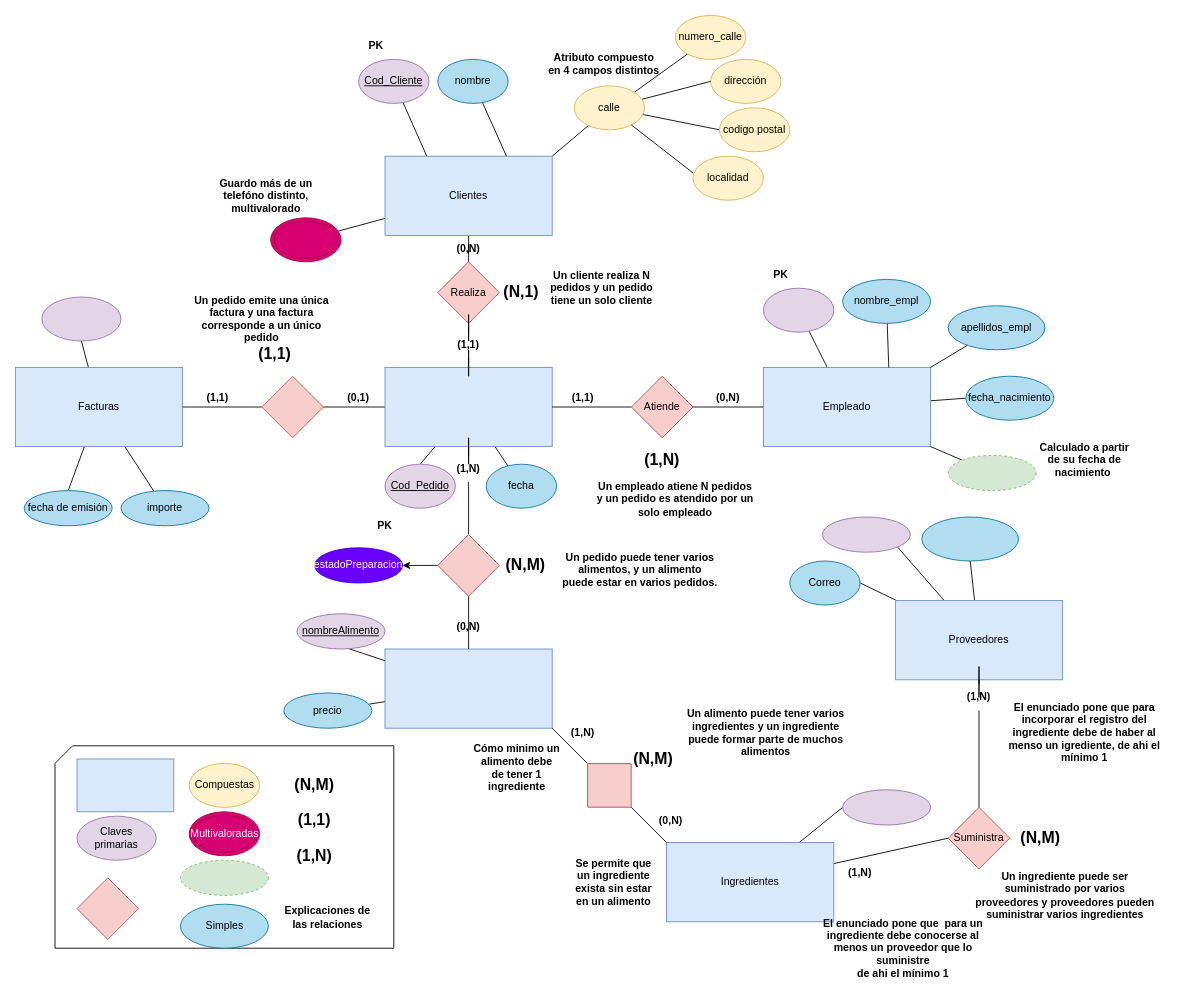
Some shapes in this 1191 by 995 pixel diagram are drawn without their labels. The centre of each missing label's shape, as x and y in pixels:
Alimento: pixel 468 688
Derivadas: pixel 224 877
DNI: pixel 798 309
edad: pixel 991 473
Emite: pixel 292 406
Entidades: pixel 125 785
Incluye: pixel 468 565
NIF-Proveedor: pixel 865 534
nombre_comercial: pixel 970 538
nombreIngrediente: pixel 886 807
nºtelefono: pixel 305 239
Número_factura: pixel 81 318
Pedido: pixel 468 407
Relaciones: pixel 107 908
Tiene: pixel 609 785
